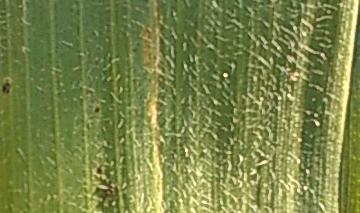tarspot: (1, 74, 15, 97), (91, 101, 102, 120), (93, 163, 106, 177)
